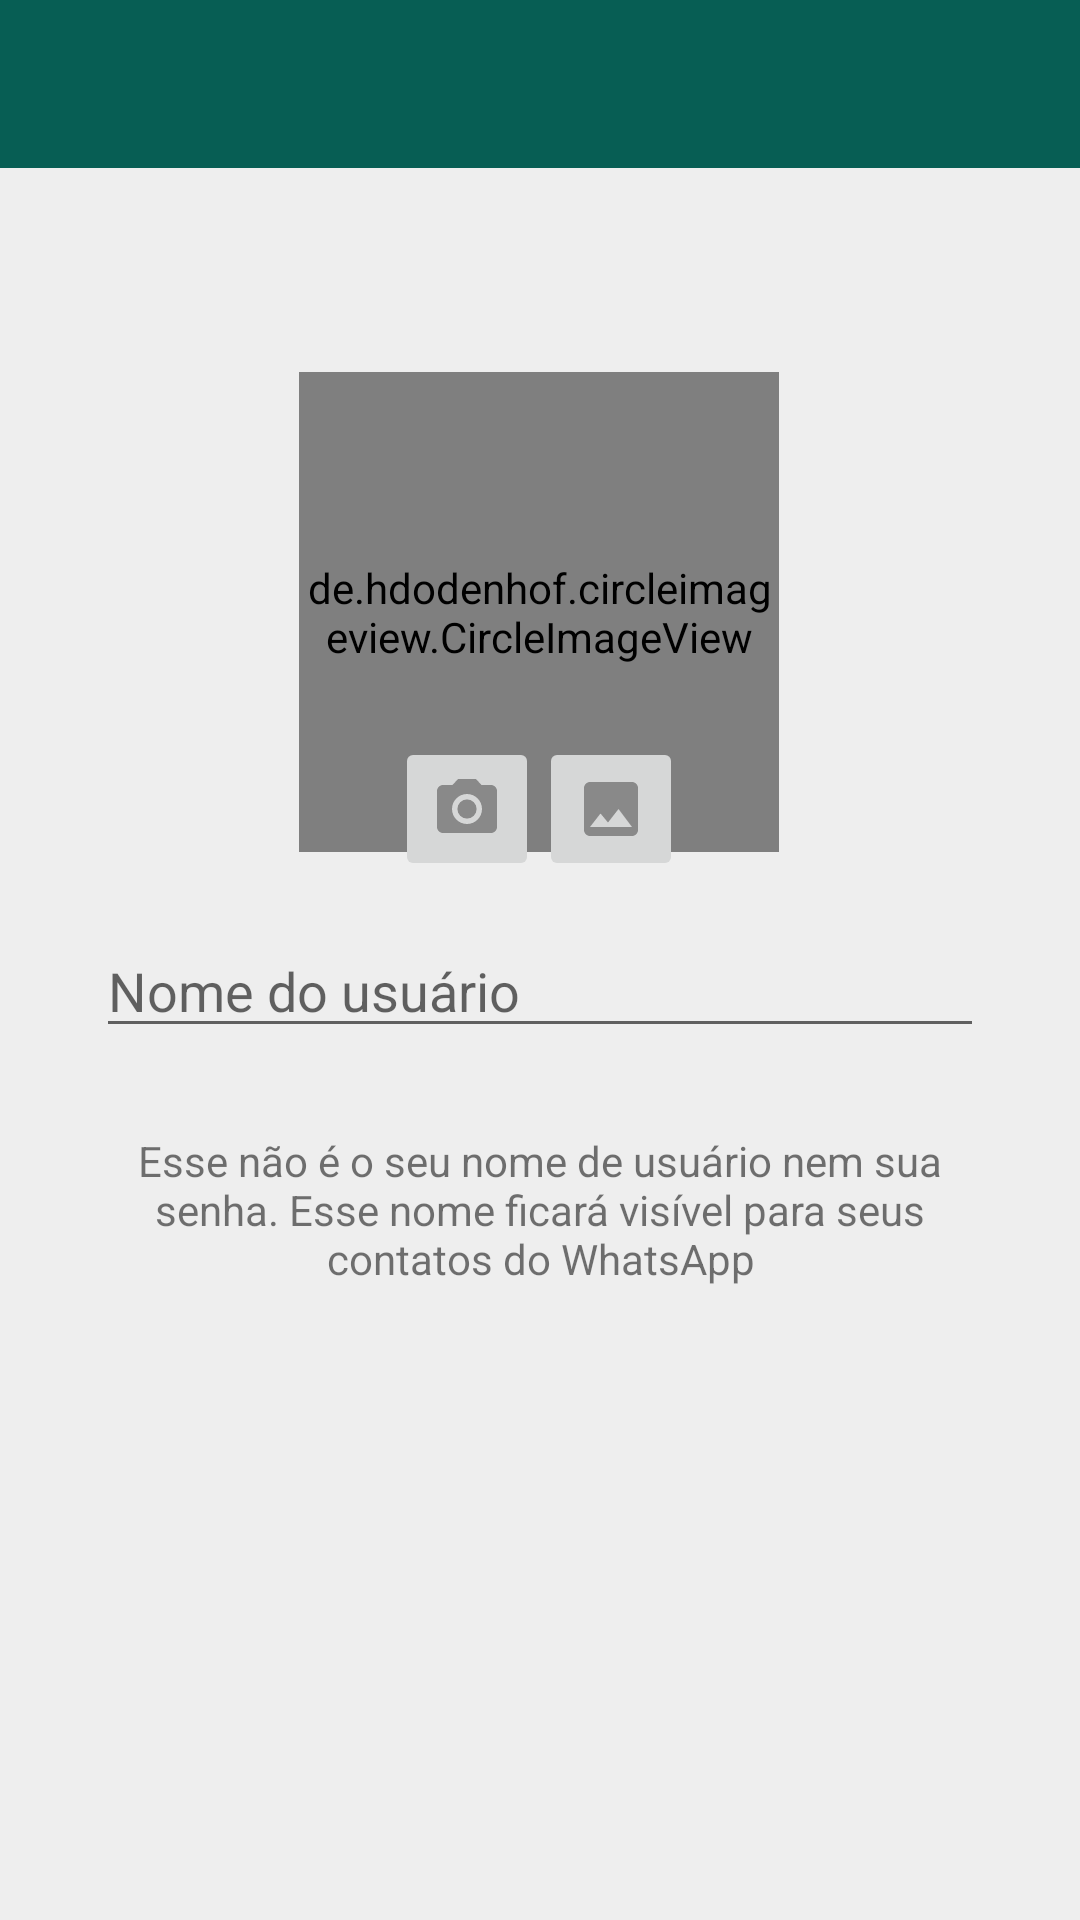

Where to tap for icons on this 1080×1920 app screen, as [x,y]:
camera: [467,818]
galery: [611,818]
